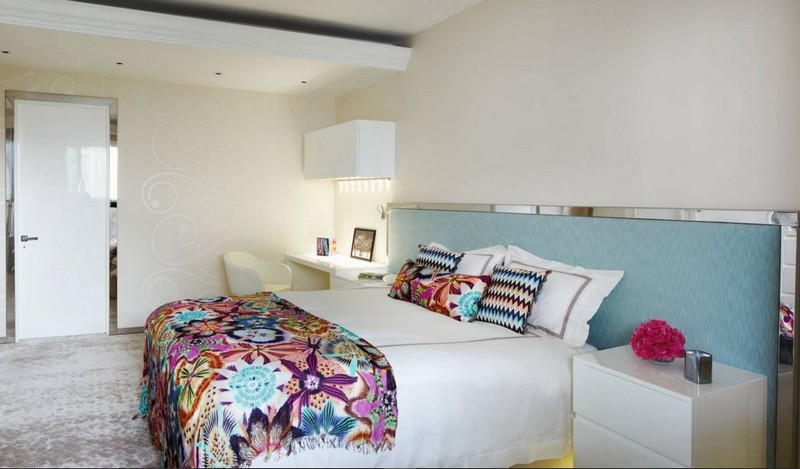bed: (149, 205, 592, 465)
chair: (223, 249, 295, 295)
door: (4, 90, 120, 342)
stool: (571, 344, 765, 469)
table: (279, 246, 385, 289)
